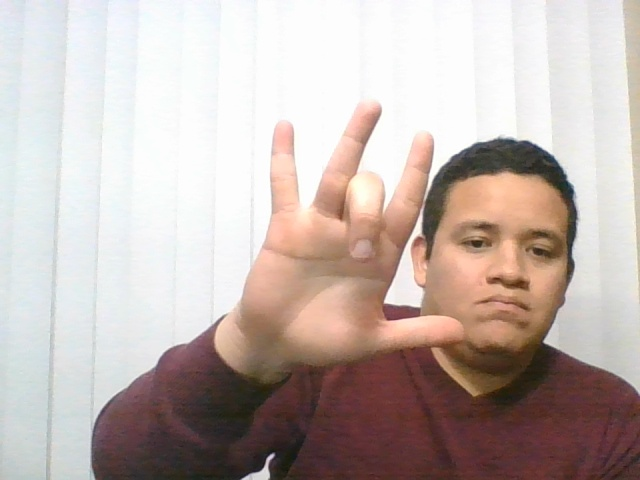Eight: (197, 86, 505, 384)
